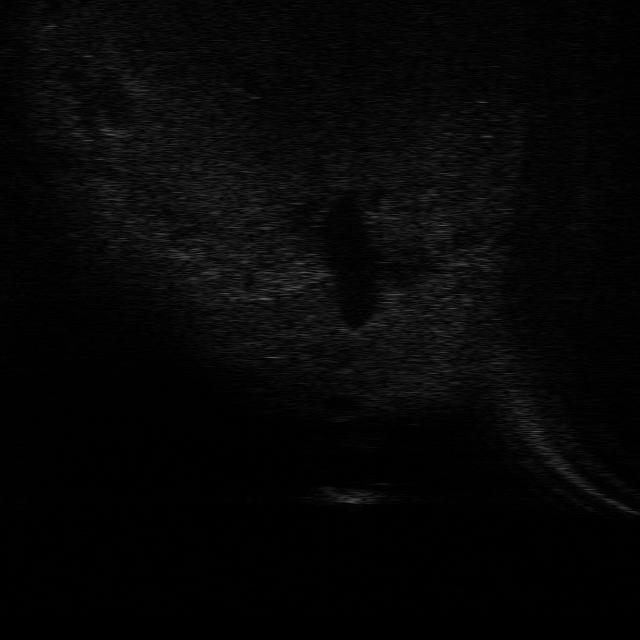cube: (312, 480, 388, 506)
